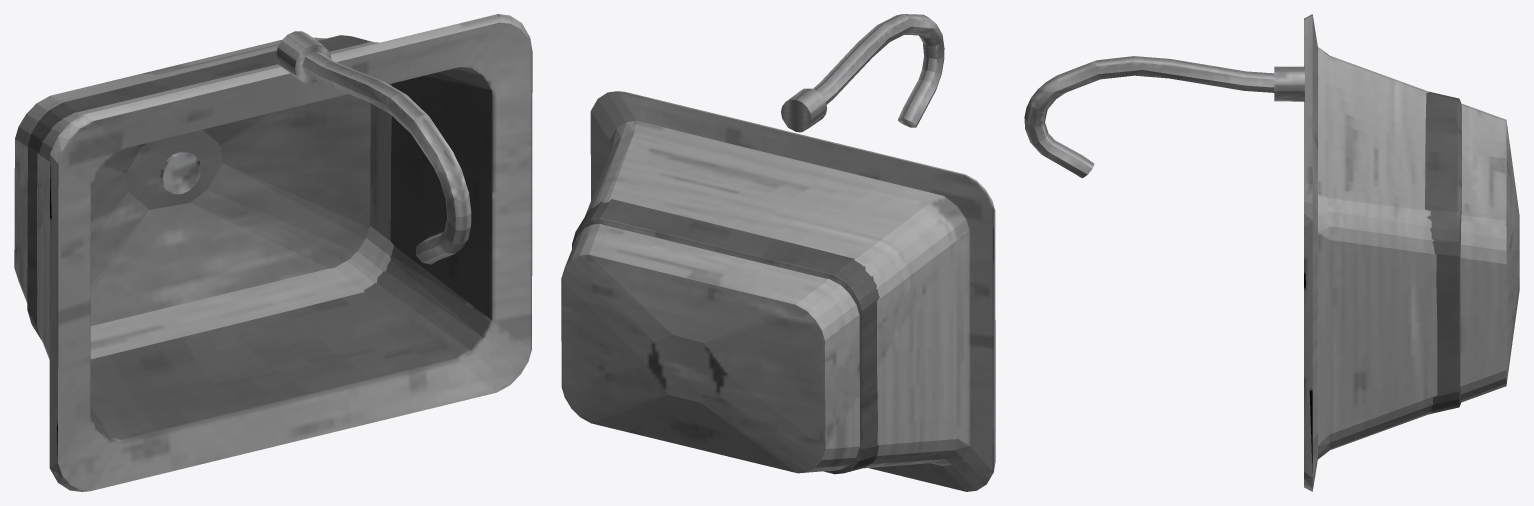
Rendered from pz_sink_inset_dark_industrial.obj.
The picture shows the model from 3 angles, left to right: view 1: azimuth 30°, elevation 25°; view 2: azimuth 150°, elevation 25°; view 3: azimuth 270°, elevation 25°; orthographic projection. The views are drawn at different scales.
Visible parts, largest first — view 1: pz_sink_inset_dark_industrial_|_open_bowl_and_overhanging_rim, pz_sink_inset_dark_industrial_|_EDITABLE_arched_faucet, pz_sink_inset_dark_industrial_|_faucet_socket, pz_sink_inset_dark_industrial_|_drain_disc; view 2: pz_sink_inset_dark_industrial_|_open_bowl_and_overhanging_rim, pz_sink_inset_dark_industrial_|_EDITABLE_arched_faucet, pz_sink_inset_dark_industrial_|_faucet_socket; view 3: pz_sink_inset_dark_industrial_|_open_bowl_and_overhanging_rim, pz_sink_inset_dark_industrial_|_EDITABLE_arched_faucet, pz_sink_inset_dark_industrial_|_faucet_socket.
Boxes of the visible parts, x1,y1,x2,y2 form: pz_sink_inset_dark_industrial_|_open_bowl_and_overhanging_rim: [14, 14, 532, 491]; pz_sink_inset_dark_industrial_|_EDITABLE_arched_faucet: [302, 51, 471, 264]; pz_sink_inset_dark_industrial_|_faucet_socket: [276, 31, 331, 83]; pz_sink_inset_dark_industrial_|_drain_disc: [160, 151, 201, 194]; pz_sink_inset_dark_industrial_|_open_bowl_and_overhanging_rim: [561, 91, 995, 491]; pz_sink_inset_dark_industrial_|_EDITABLE_arched_faucet: [813, 14, 944, 127]; pz_sink_inset_dark_industrial_|_faucet_socket: [781, 88, 827, 132]; pz_sink_inset_dark_industrial_|_open_bowl_and_overhanging_rim: [1304, 14, 1519, 491]; pz_sink_inset_dark_industrial_|_EDITABLE_arched_faucet: [1024, 56, 1274, 178]; pz_sink_inset_dark_industrial_|_faucet_socket: [1274, 66, 1304, 101].
Bounding box in the file's own units: 0.5241 × 0.4461 × 0.5696.
1 material, 1 textured.
